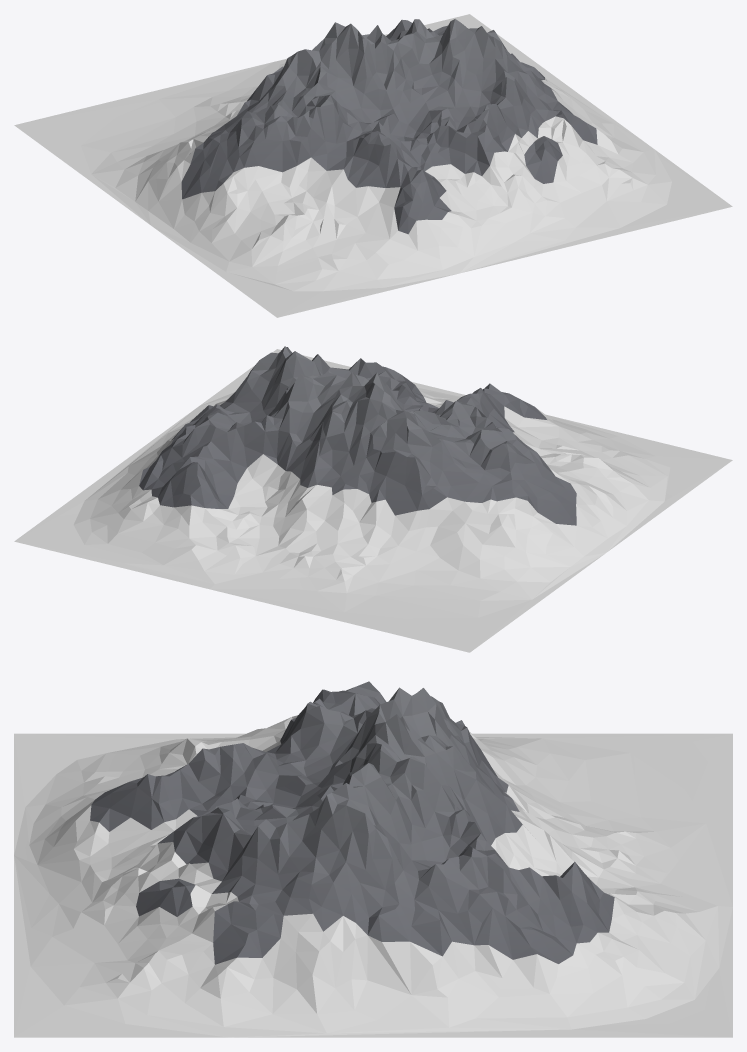
Rendered from Landscape_05.fbx.
3 views of the same model, one above another, from view 1: azimuth 30°, elevation 25°; view 2: azimuth 150°, elevation 25°; view 3: azimuth 270°, elevation 25° (orthographic). The views are drawn at different scales.
Parts seen in each view (by area): view 1: Landscape_05; view 2: Landscape_05; view 3: Landscape_05.
Boxes of the visible parts, <box> form: Landscape_05: <box>14,14,732,317</box>; Landscape_05: <box>14,346,732,652</box>; Landscape_05: <box>14,681,732,1037</box>.
Bounding box in the file's own units: 10000 × 2910 × 10000.
